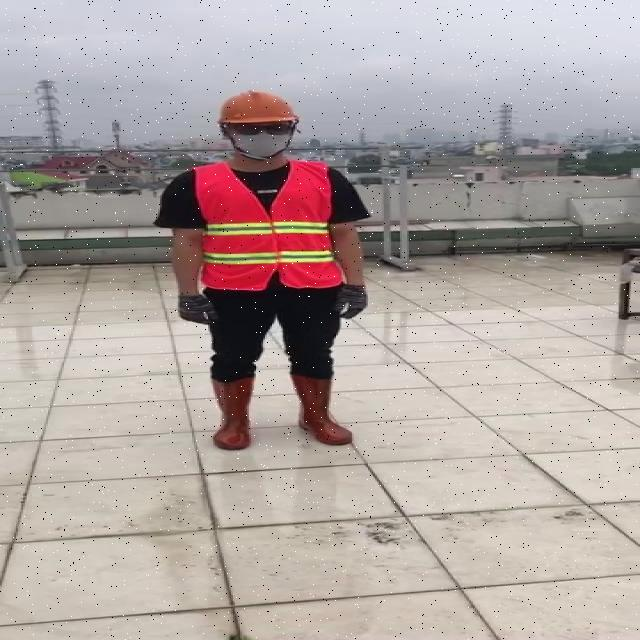Hard_hat: (210, 89, 305, 137)
Vest: (194, 156, 338, 291)
